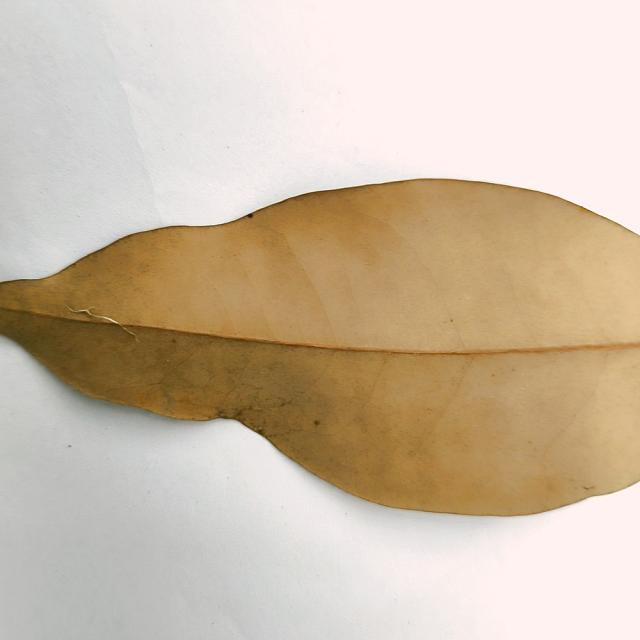Dry_Leaf-Lychee: (0, 179, 639, 519)
